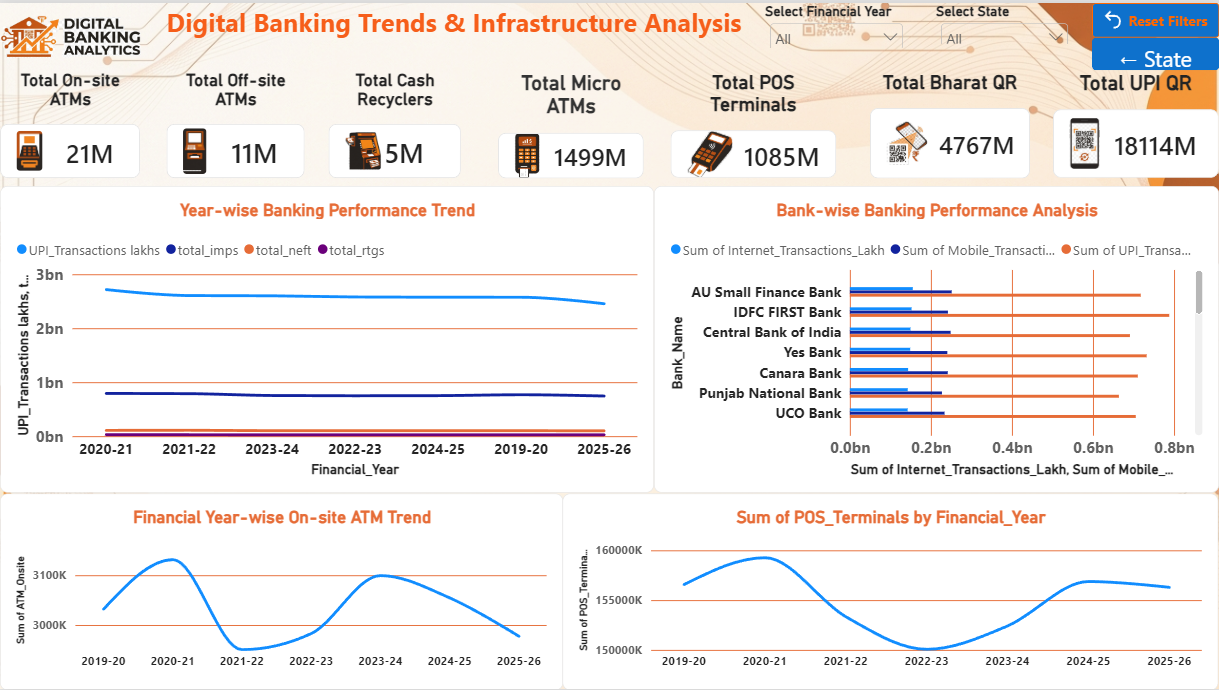

This screenshot's page, from the dashboard's own definition file:
{"tool":"powerbi","page":{"name":"Banking Overview","canvas":[1920,1080],"ordinal":0},"visuals":[{"type":"cardVisual","title":"     Total UPI Value in       (crore)","fields":{"Data":["Sum(dataset_2_3cleaned.UPI_Value_Cr)"]},"box":[0,137,375.7,153.6],"z":0},{"type":"cardVisual","title":"Total NEFT Transactions(Lakh)","fields":{"Data":["Sum(dataset_2_3cleaned.NEFT_Transactions_Lakh)"]},"box":[0,491.4,375.7,189],"z":1000},{"type":"cardVisual","title":"Total IMPS Transactions(Lakh)","fields":{"Data":["Sum(dataset_2_3cleaned.IMPS_Transactions_Lakh)"]},"box":[0,699.3,375.7,179.6],"z":2000},{"type":"cardVisual","title":"Total RTGS Transactions(Lakh)","fields":{"Data":["Sum(dataset_2_3cleaned.RTGS_Transactions_Lakh)"]},"box":[0,309.5,375.7,165.4],"z":3000},{"type":"cardVisual","title":"Total UPI Transactions(Lakh)","fields":{"Data":["Sum(dataset_2_3cleaned.UPI_Transactions_Lakh)"]},"box":[0,895.4,375.7,181.9],"z":4000},{"type":"lineChart","title":"Year-wise UPI Transaction Trend","fields":{"Category":["dataset_2_3cleaned.Financial_Year"],"Y":["Sum(dataset_2_3cleaned.UPI_Transactions_Lakh)"]},"box":[410.1,610.6,1485.6,467.8],"z":5000},{"type":"clusteredColumnChart","title":"Top 10 Banks by UPI Transactions","fields":{"Category":["dataset_2_3cleaned.Bank_Name"],"Y":["Sum(dataset_2_3cleaned.UPI_Transactions_Lakh)"]},"box":[410.1,130.6,774.7,455.7],"z":6000},{"type":"columnChart","title":"Top 10 States by UPI Transactions","fields":{"Category":["dataset_2_3cleaned.State"],"Y":["Sum(dataset_2_3cleaned.UPI_Transactions_Lakh)"]},"box":[1200,136.7,692.7,449.6],"z":7000},{"type":"slicer","fields":{"Values":["dataset_2_3cleaned.Financial_Year"]},"box":[1591.9,27.3,182.3,79],"z":8000},{"type":"slicer","fields":{"Values":["dataset_2_3cleaned.Bank_Type"]},"box":[1154.4,27.3,167.1,79],"z":9000},{"type":"slicer","fields":{"Values":["dataset_2_3cleaned.State"]},"box":[1361,27.3,188.4,79],"z":10000},{"type":"image","box":[0,0,145.8,130.6],"z":11000},{"type":"image","box":[1774.2,0,145.8,130.6],"z":12000},{"type":"textbox","box":[145.8,0,917.5,66.8],"z":13000},{"type":"textbox","box":[188.4,66.8,829.4,39.5],"z":14000}]}

Visuals, with their boxes in screenshot pixels (x1, y1, x2, y2), scaled from the page's 1920x1080 canvas onto the 1219x690 screenshot:
"     Total UPI Value in       (crore)" cardVisual: l=0, t=88, r=239, b=186
"Total NEFT Transactions(Lakh)" cardVisual: l=0, t=314, r=239, b=435
"Total IMPS Transactions(Lakh)" cardVisual: l=0, t=447, r=239, b=562
"Total RTGS Transactions(Lakh)" cardVisual: l=0, t=198, r=239, b=303
"Total UPI Transactions(Lakh)" cardVisual: l=0, t=572, r=239, b=688
"Year-wise UPI Transaction Trend" lineChart: l=260, t=390, r=1204, b=689
"Top 10 Banks by UPI Transactions" clusteredColumnChart: l=260, t=83, r=752, b=375
"Top 10 States by UPI Transactions" columnChart: l=762, t=87, r=1202, b=375
slicer - dataset_2_3cleaned.Financial_Year: l=1011, t=17, r=1126, b=68
slicer - dataset_2_3cleaned.Bank_Type: l=733, t=17, r=839, b=68
slicer - dataset_2_3cleaned.State: l=864, t=17, r=984, b=68
image: l=0, t=0, r=93, b=83
image: l=1126, t=0, r=1218, b=83
textbox: l=93, t=0, r=675, b=43
textbox: l=120, t=43, r=646, b=68
